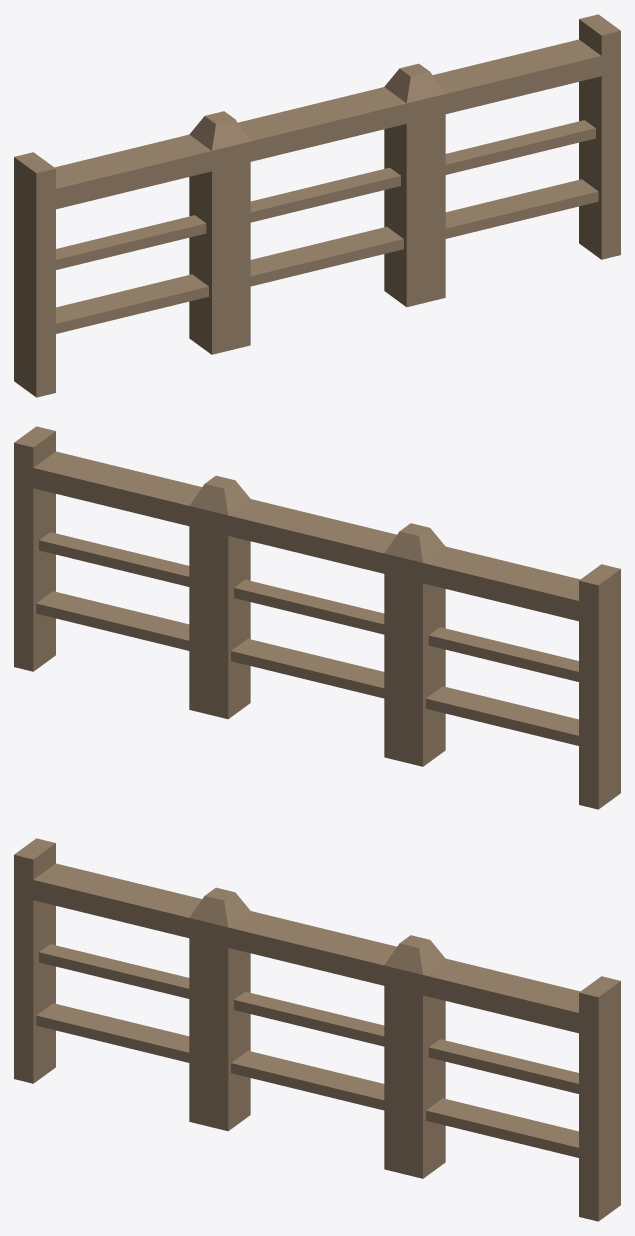
Rendered from fantasy_railing_1.fbx.
The picture shows the model from 3 angles, top to bottom: view 1: azimuth 30°, elevation 25°; view 2: azimuth 150°, elevation 25°; view 3: azimuth 330°, elevation 25°; orthographic projection.
Visible parts, largest first — view 1: Cube.048; view 2: Cube.048; view 3: Cube.048.
Part boxes in pixels (<box>): Cube.048: <box>14,14,620,397</box>; Cube.048: <box>14,426,620,809</box>; Cube.048: <box>14,838,620,1221</box>.
Bounding box in the file's own units: 300 × 110 × 20.
